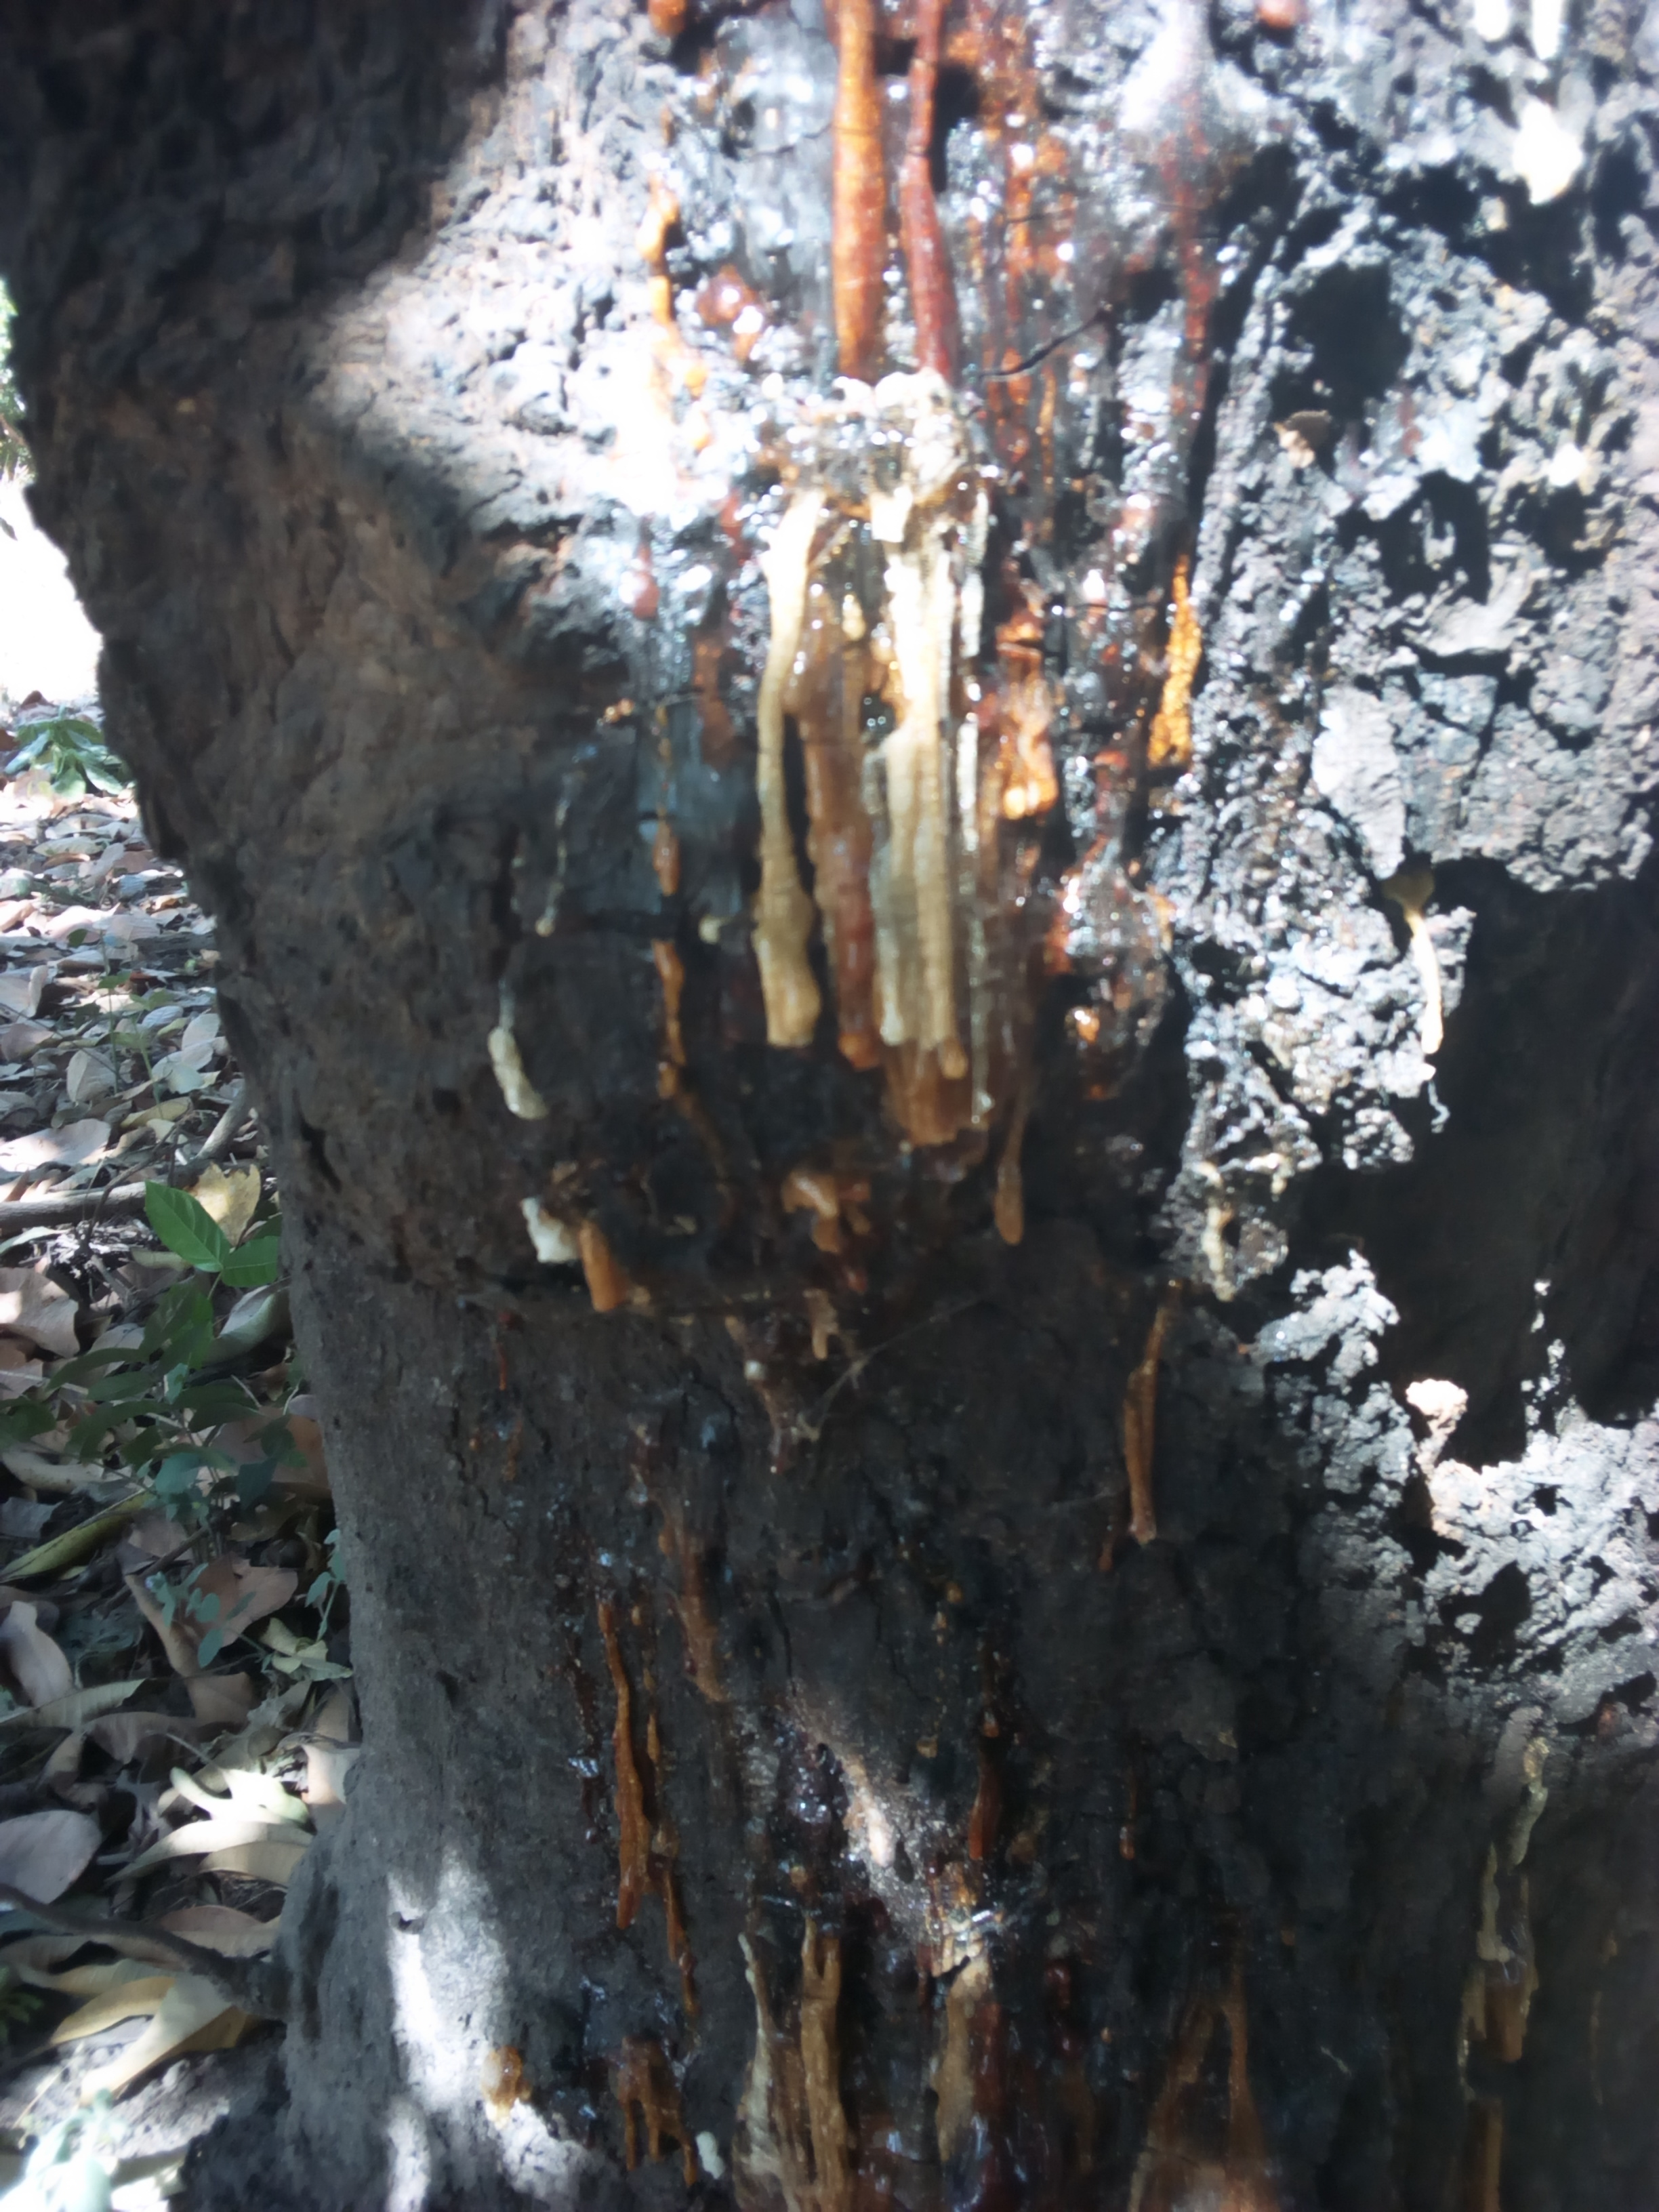Gommose: (603, 21, 1229, 2212)
